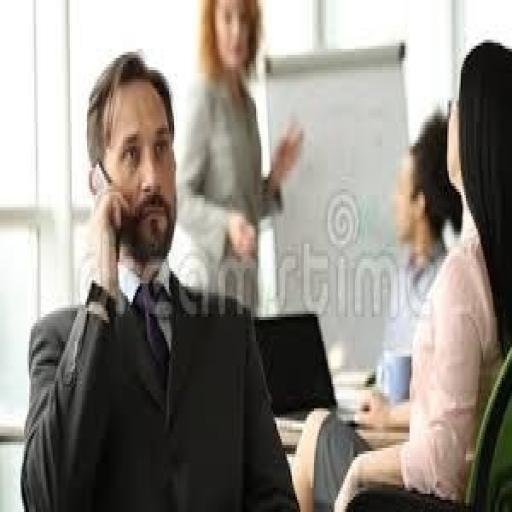calling: (19, 49, 302, 509), (290, 37, 510, 509), (171, 0, 307, 314)
